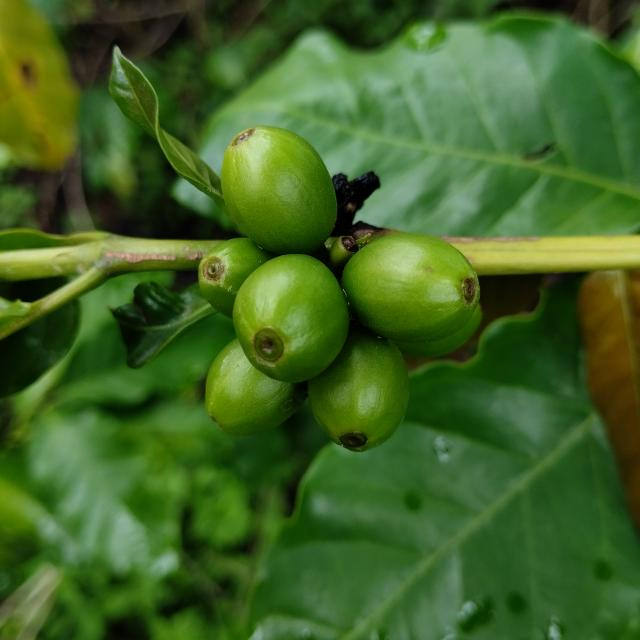green: (340, 233, 480, 343), (232, 254, 350, 383), (221, 125, 337, 255), (308, 326, 409, 452), (205, 338, 307, 436), (198, 238, 274, 317), (397, 304, 483, 358)
